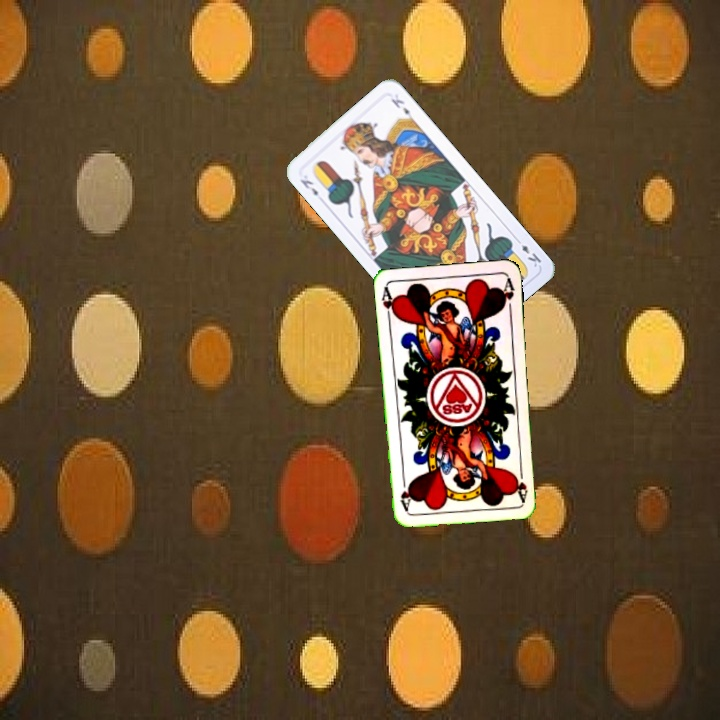EK: (511, 234, 544, 270), (296, 175, 321, 199)
HA: (378, 284, 399, 324), (514, 462, 530, 503)
